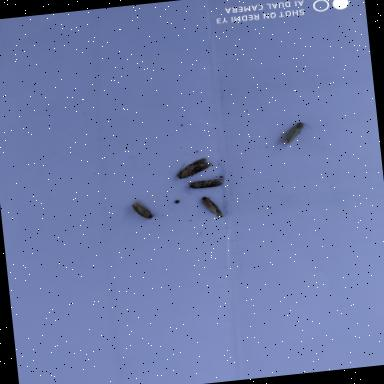pbw: (276, 120, 314, 148), (174, 156, 215, 181), (130, 196, 158, 224), (186, 178, 227, 196), (200, 194, 225, 221)
